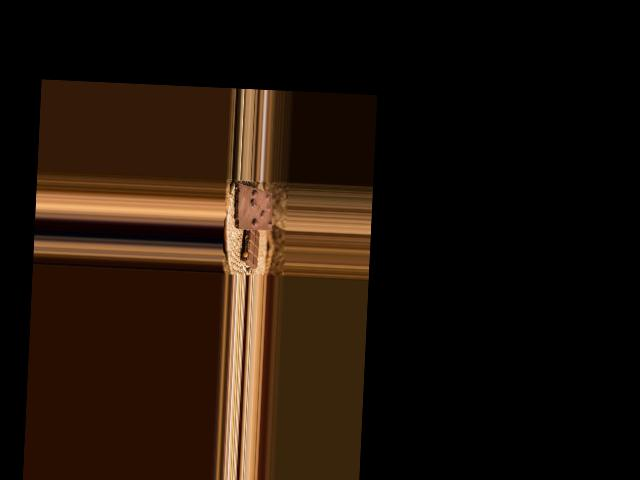chocolate: (233, 182, 275, 233)
